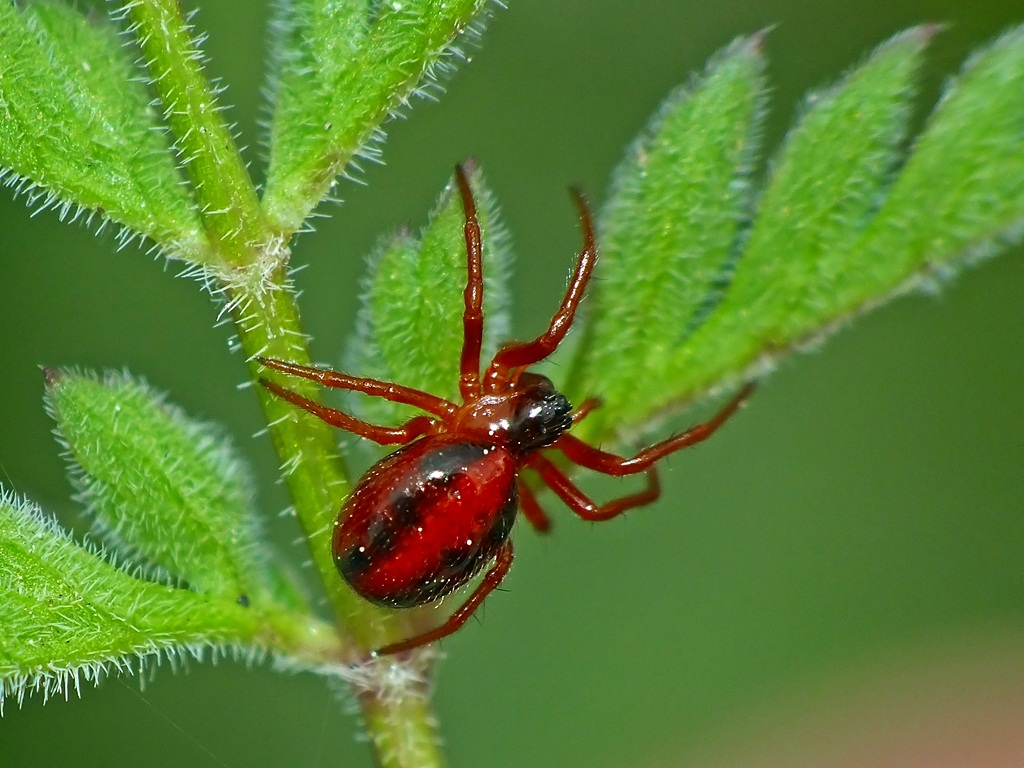spider: (235, 133, 788, 685)
